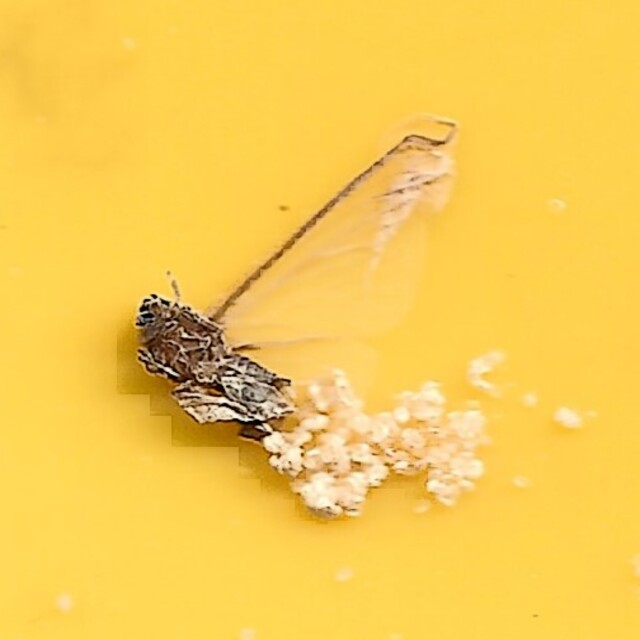Ephemeroptera: (127, 119, 513, 521)
